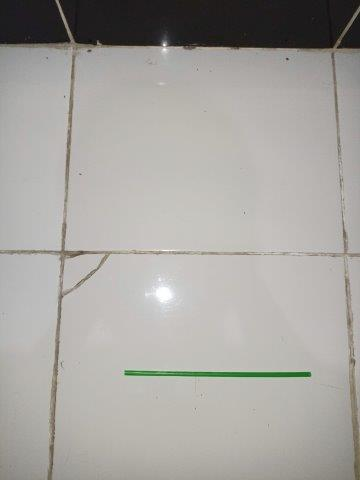sedotan: (125, 370, 311, 377)
